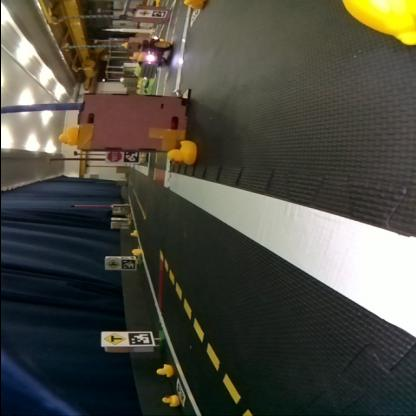Duckie: (166, 140, 194, 162), (57, 128, 76, 144), (154, 364, 172, 376), (182, 0, 202, 9), (160, 395, 176, 406), (131, 249, 139, 255), (128, 230, 136, 235)
Duckiebot: (135, 36, 171, 80)
Intersection sign: (102, 332, 124, 344), (104, 258, 116, 269)
QR code: (126, 332, 152, 344), (176, 379, 184, 405), (122, 150, 136, 162), (121, 258, 134, 268), (151, 10, 163, 17)
Stop sign: (105, 150, 119, 162)
